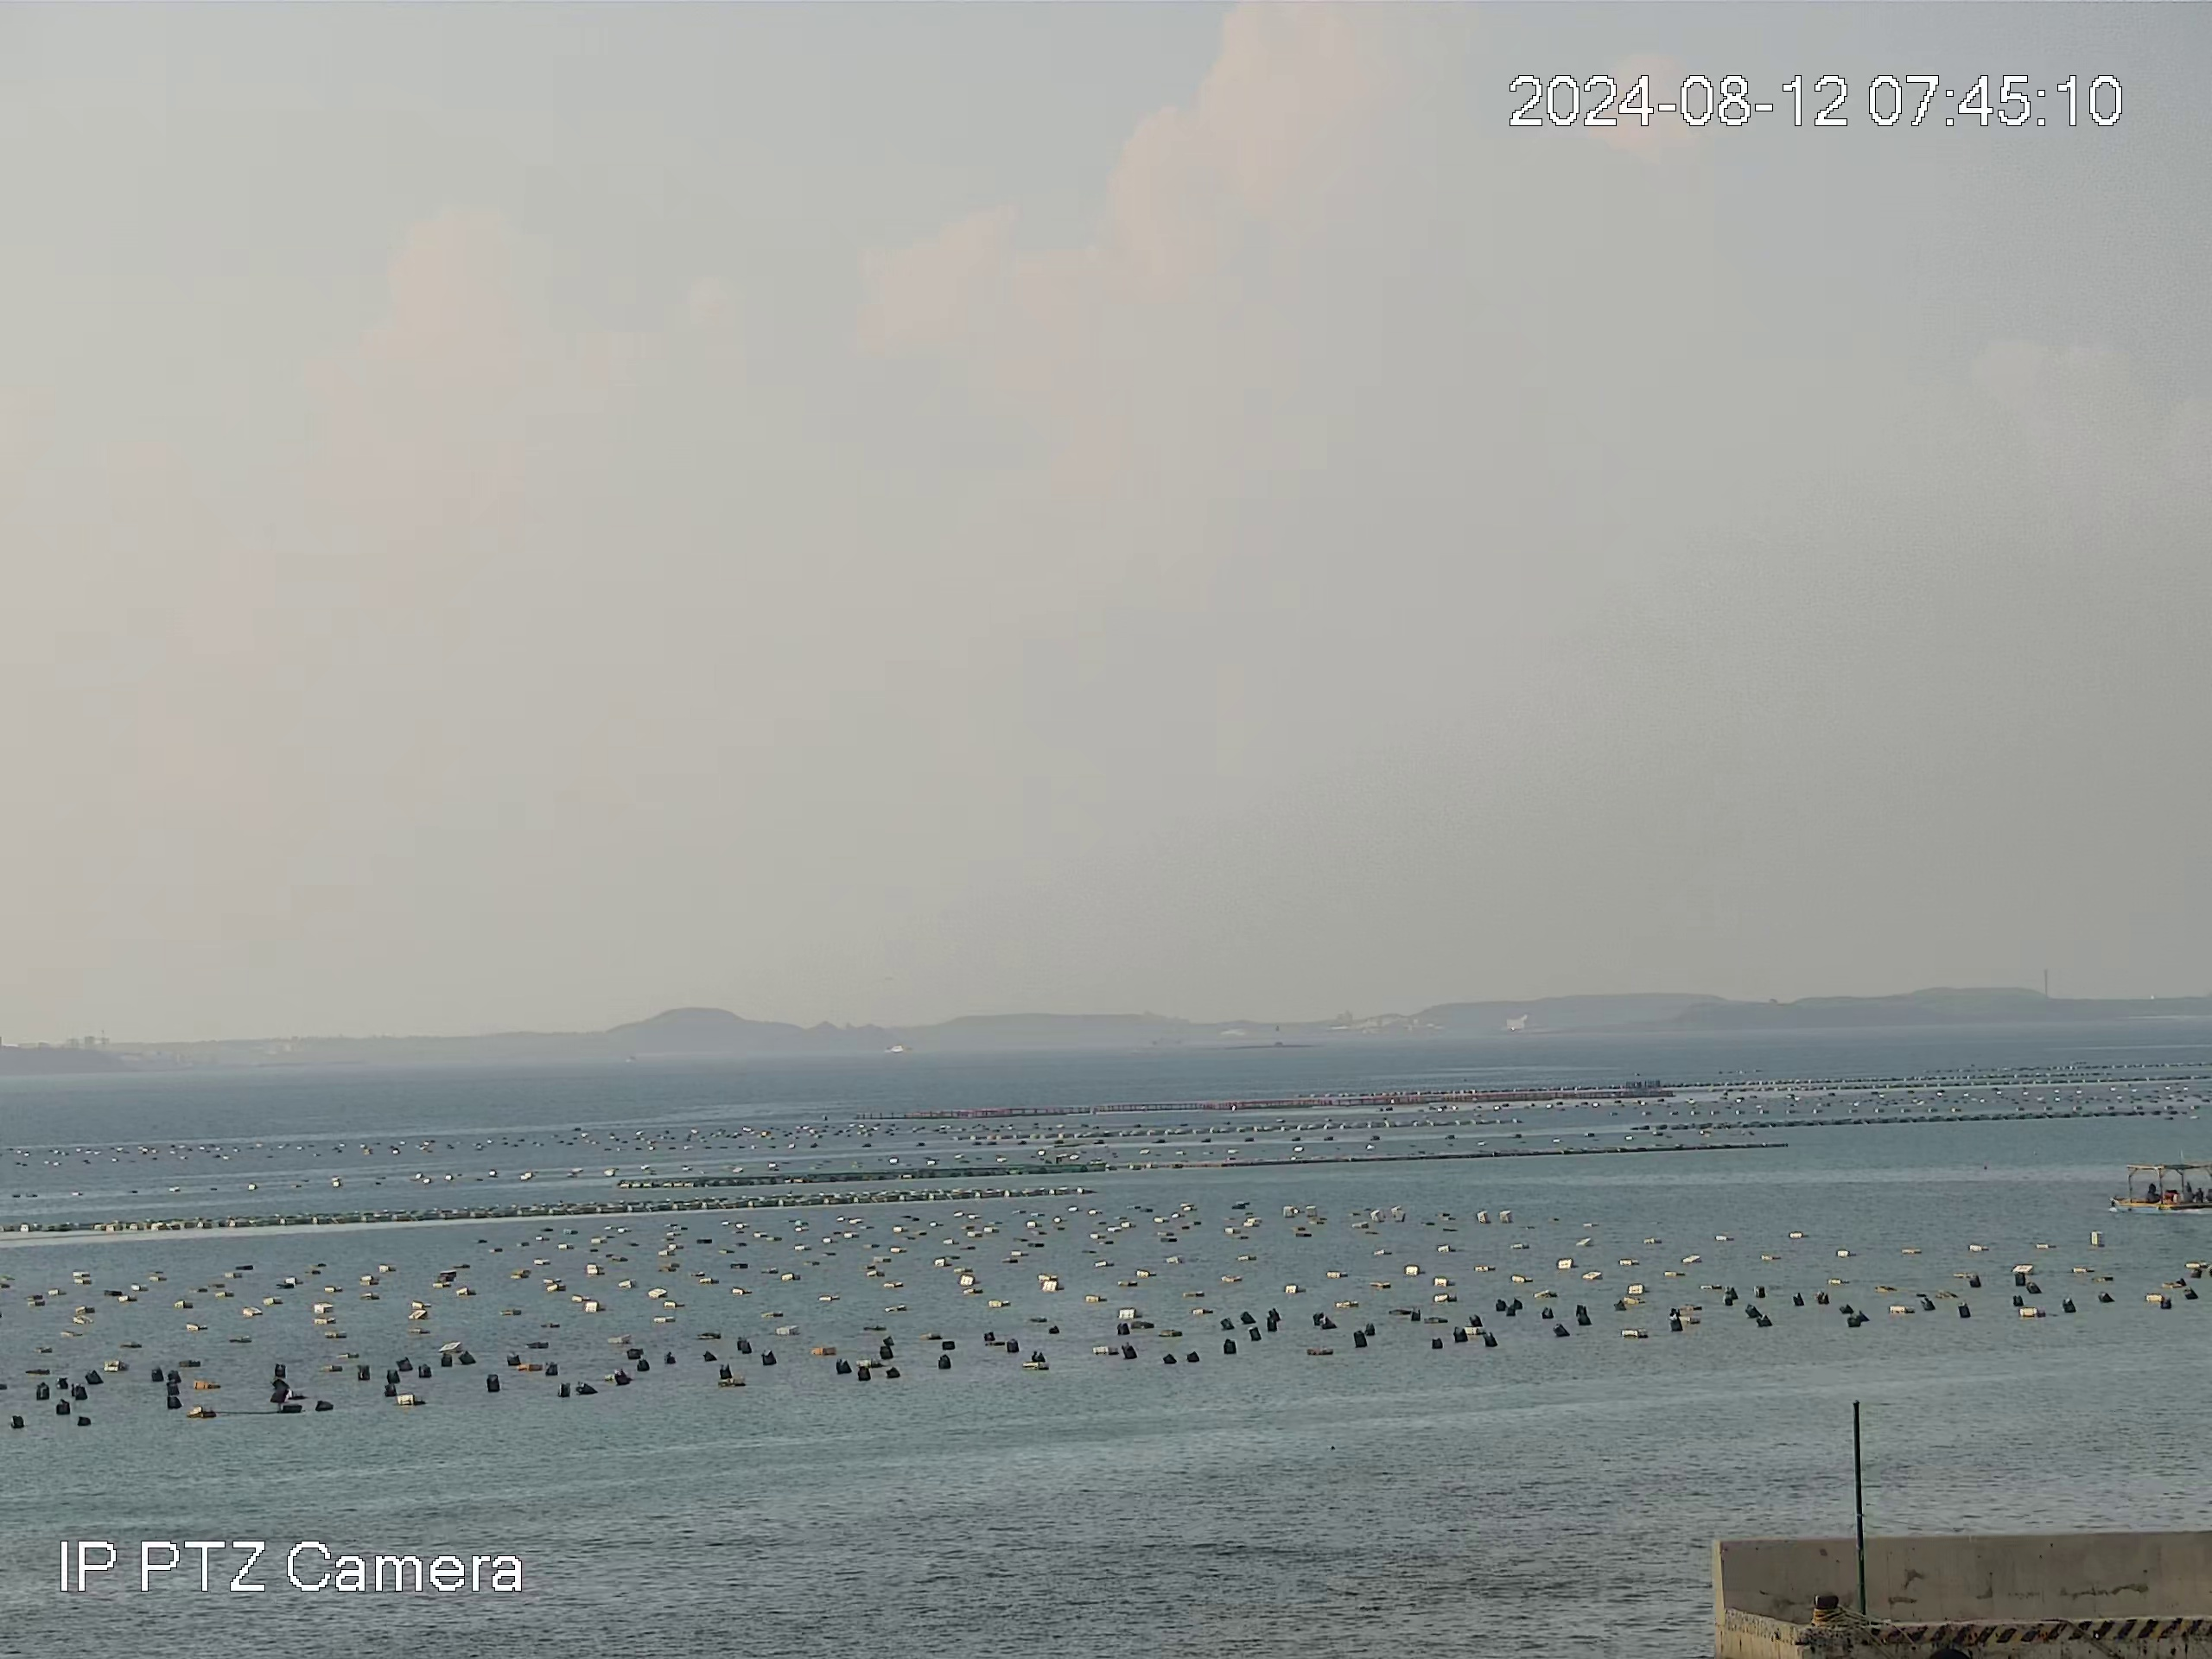boat: (2102, 1150, 2212, 1220)
